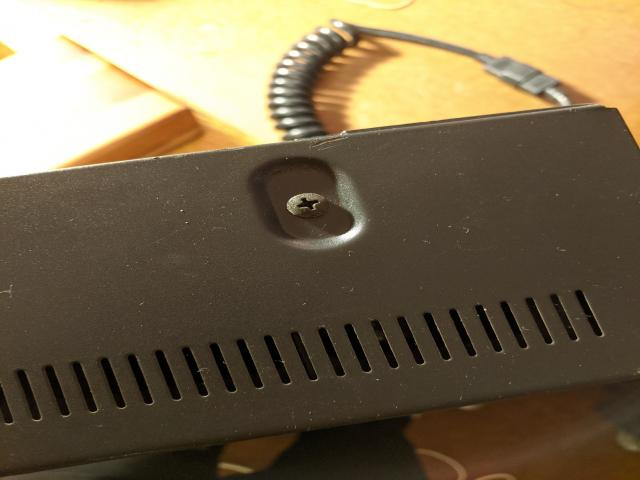CRS: (286, 194, 331, 220)
